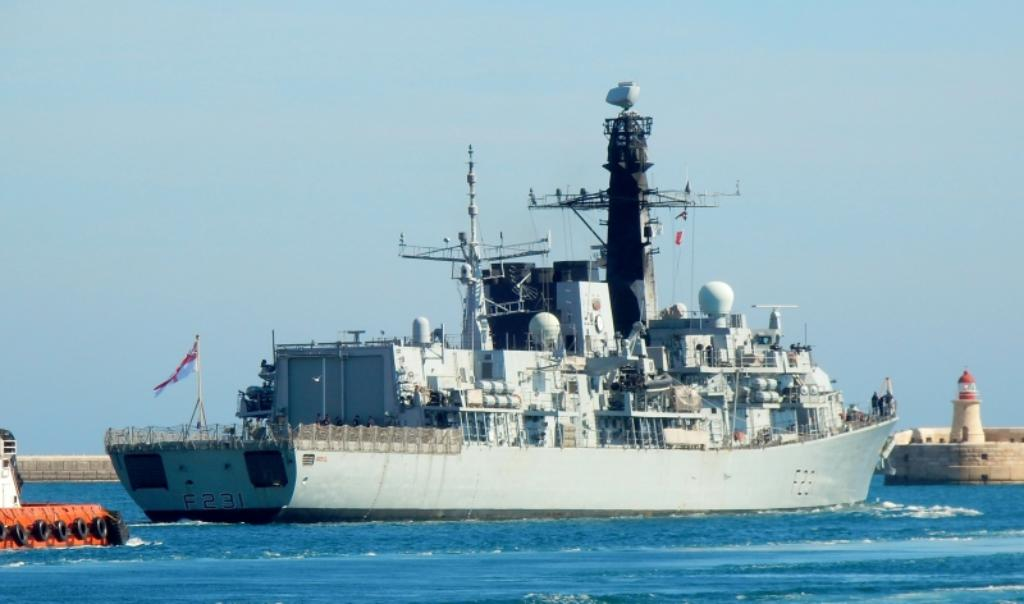Warship: (102, 54, 908, 536)
